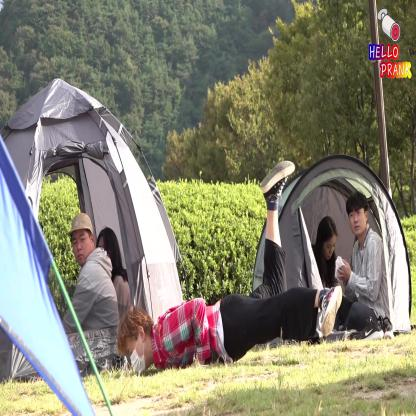Fall_Down: (116, 159, 344, 379)
